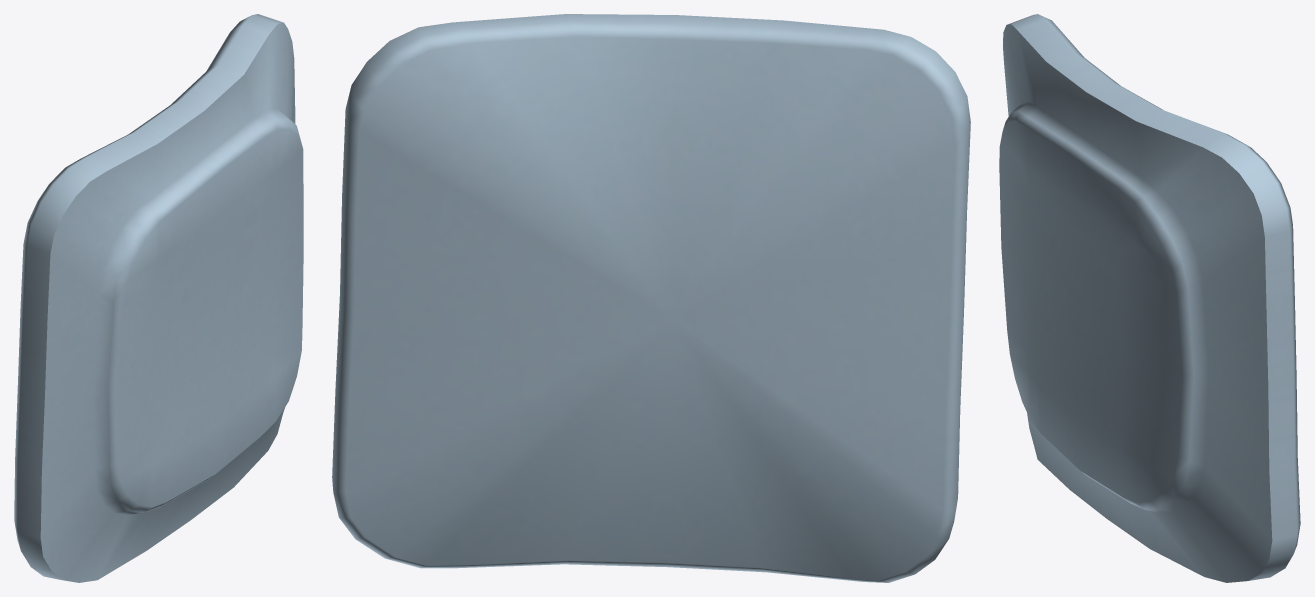
The model's file is AccessoryGlassEyepatchWhite.glb.
The picture shows the model from 3 angles, left to right: view 1: azimuth 30°, elevation 25°; view 2: azimuth 150°, elevation 25°; view 3: azimuth 270°, elevation 25°; orthographic projection. The views are drawn at different scales.
Parts seen in each view (by area): view 1: Accessory__mAccessory; view 2: Accessory__mAccessory; view 3: Accessory__mAccessory.
Part boxes in pixels (x1=…): Accessory__mAccessory: x1=14, y1=14, x2=303, y2=582; Accessory__mAccessory: x1=332, y1=14, x2=970, y2=582; Accessory__mAccessory: x1=999, y1=14, x2=1300, y2=582.
Size of the model in its own units: 1.86 by 1.99 by 1.21.
1 material, 1 textured.
